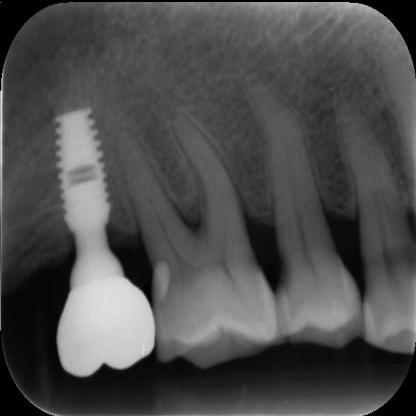Bicon: (53, 105, 116, 230)
